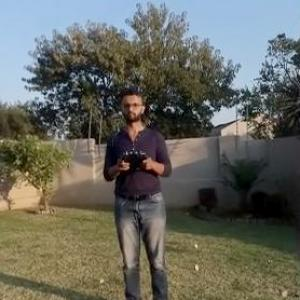follow: (98, 84, 180, 299)
